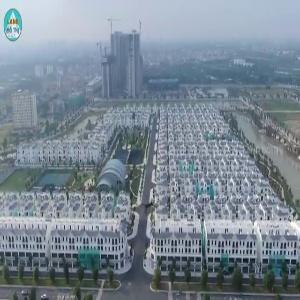drone: (133, 190, 169, 226)
